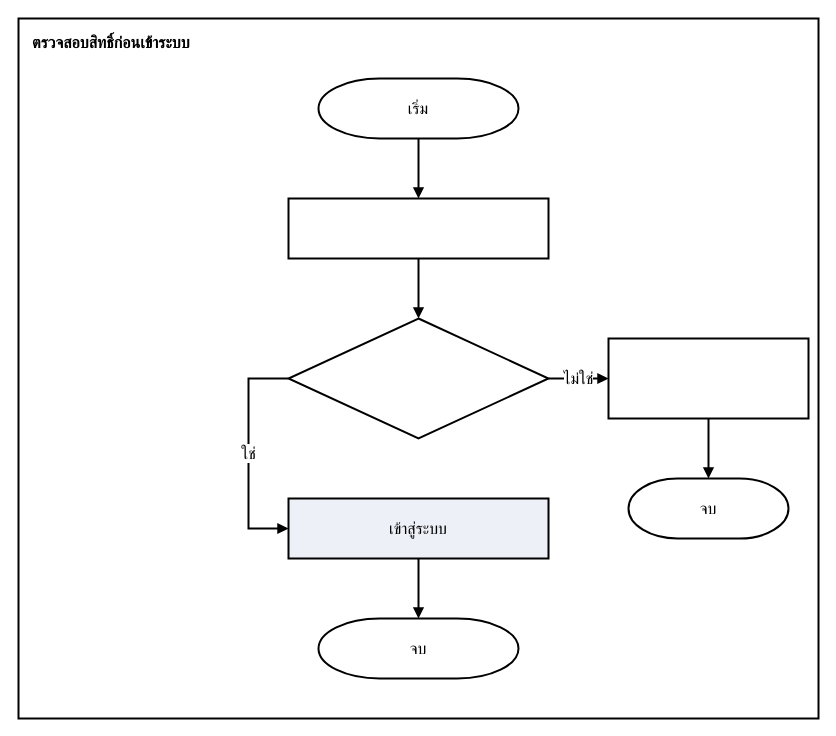
The diagram is 836 pixels wide and 736 high, and some of its shapes have lost their labels. Each missing label, with the centre of its shape:
"ข้อมูลถูกต้อง?" goes at (418,378).
"ผู้ใช้กรอกอีเมลและรหัสผ่าน" goes at (418,228).
"แจ้งว่าข้อมูลไม่ถูกต้อง" goes at (708,378).
